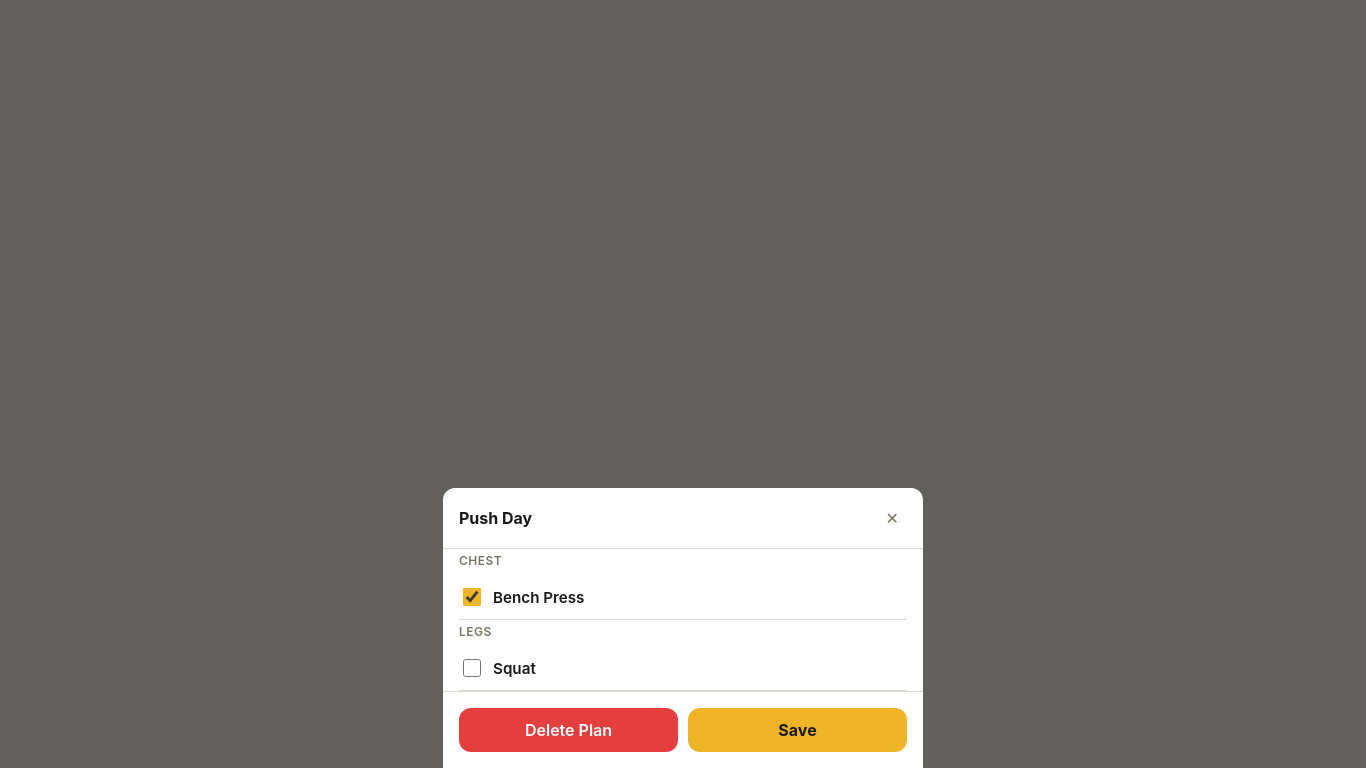
Test: PlanEditSheet › shows confirm dialog when Delete Plan is clicked
This screenshot has width=1366, height=768.
Click the button "Delete Plan".
click(568, 730)  # box x1=459 y1=708 x2=678 y2=752
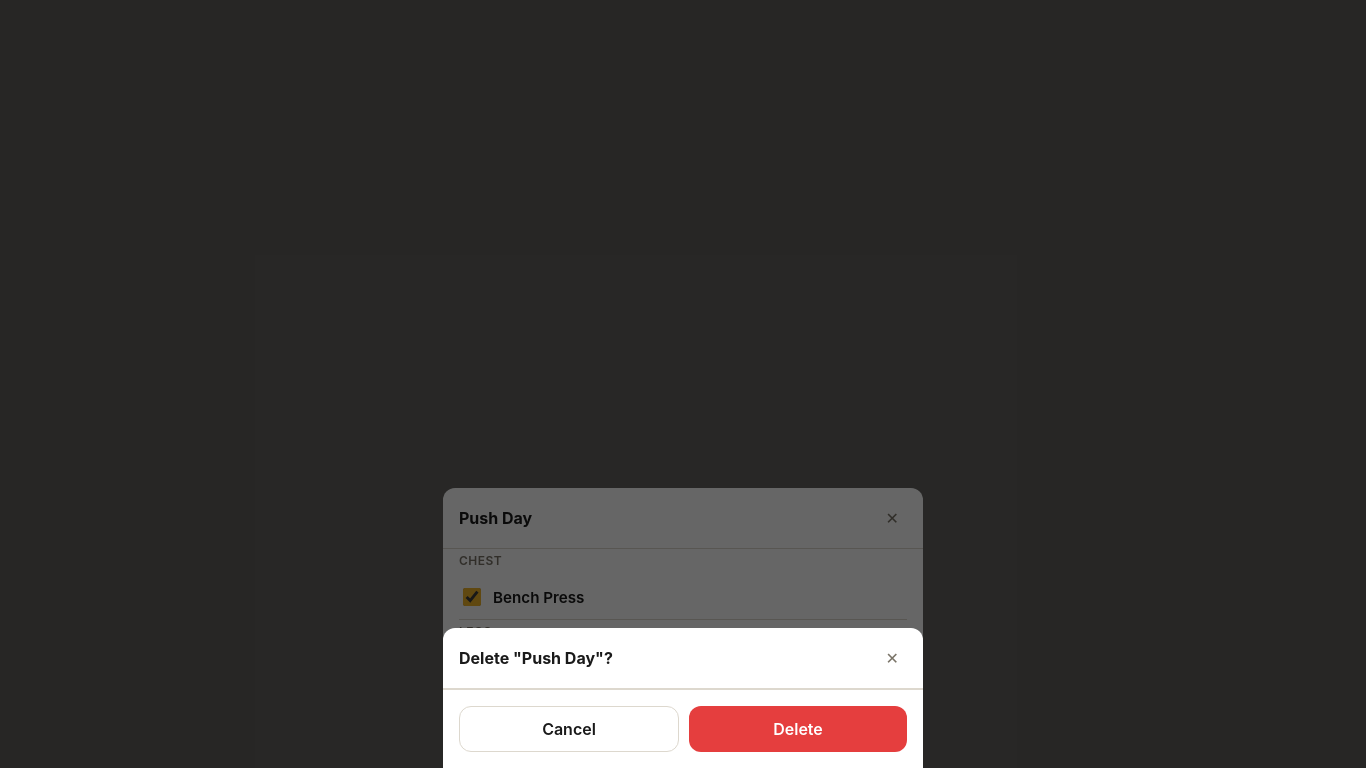
Expected: the text "Delete \"Push Day\"?" is shown, x1=459 y1=647 x2=613 y2=669
